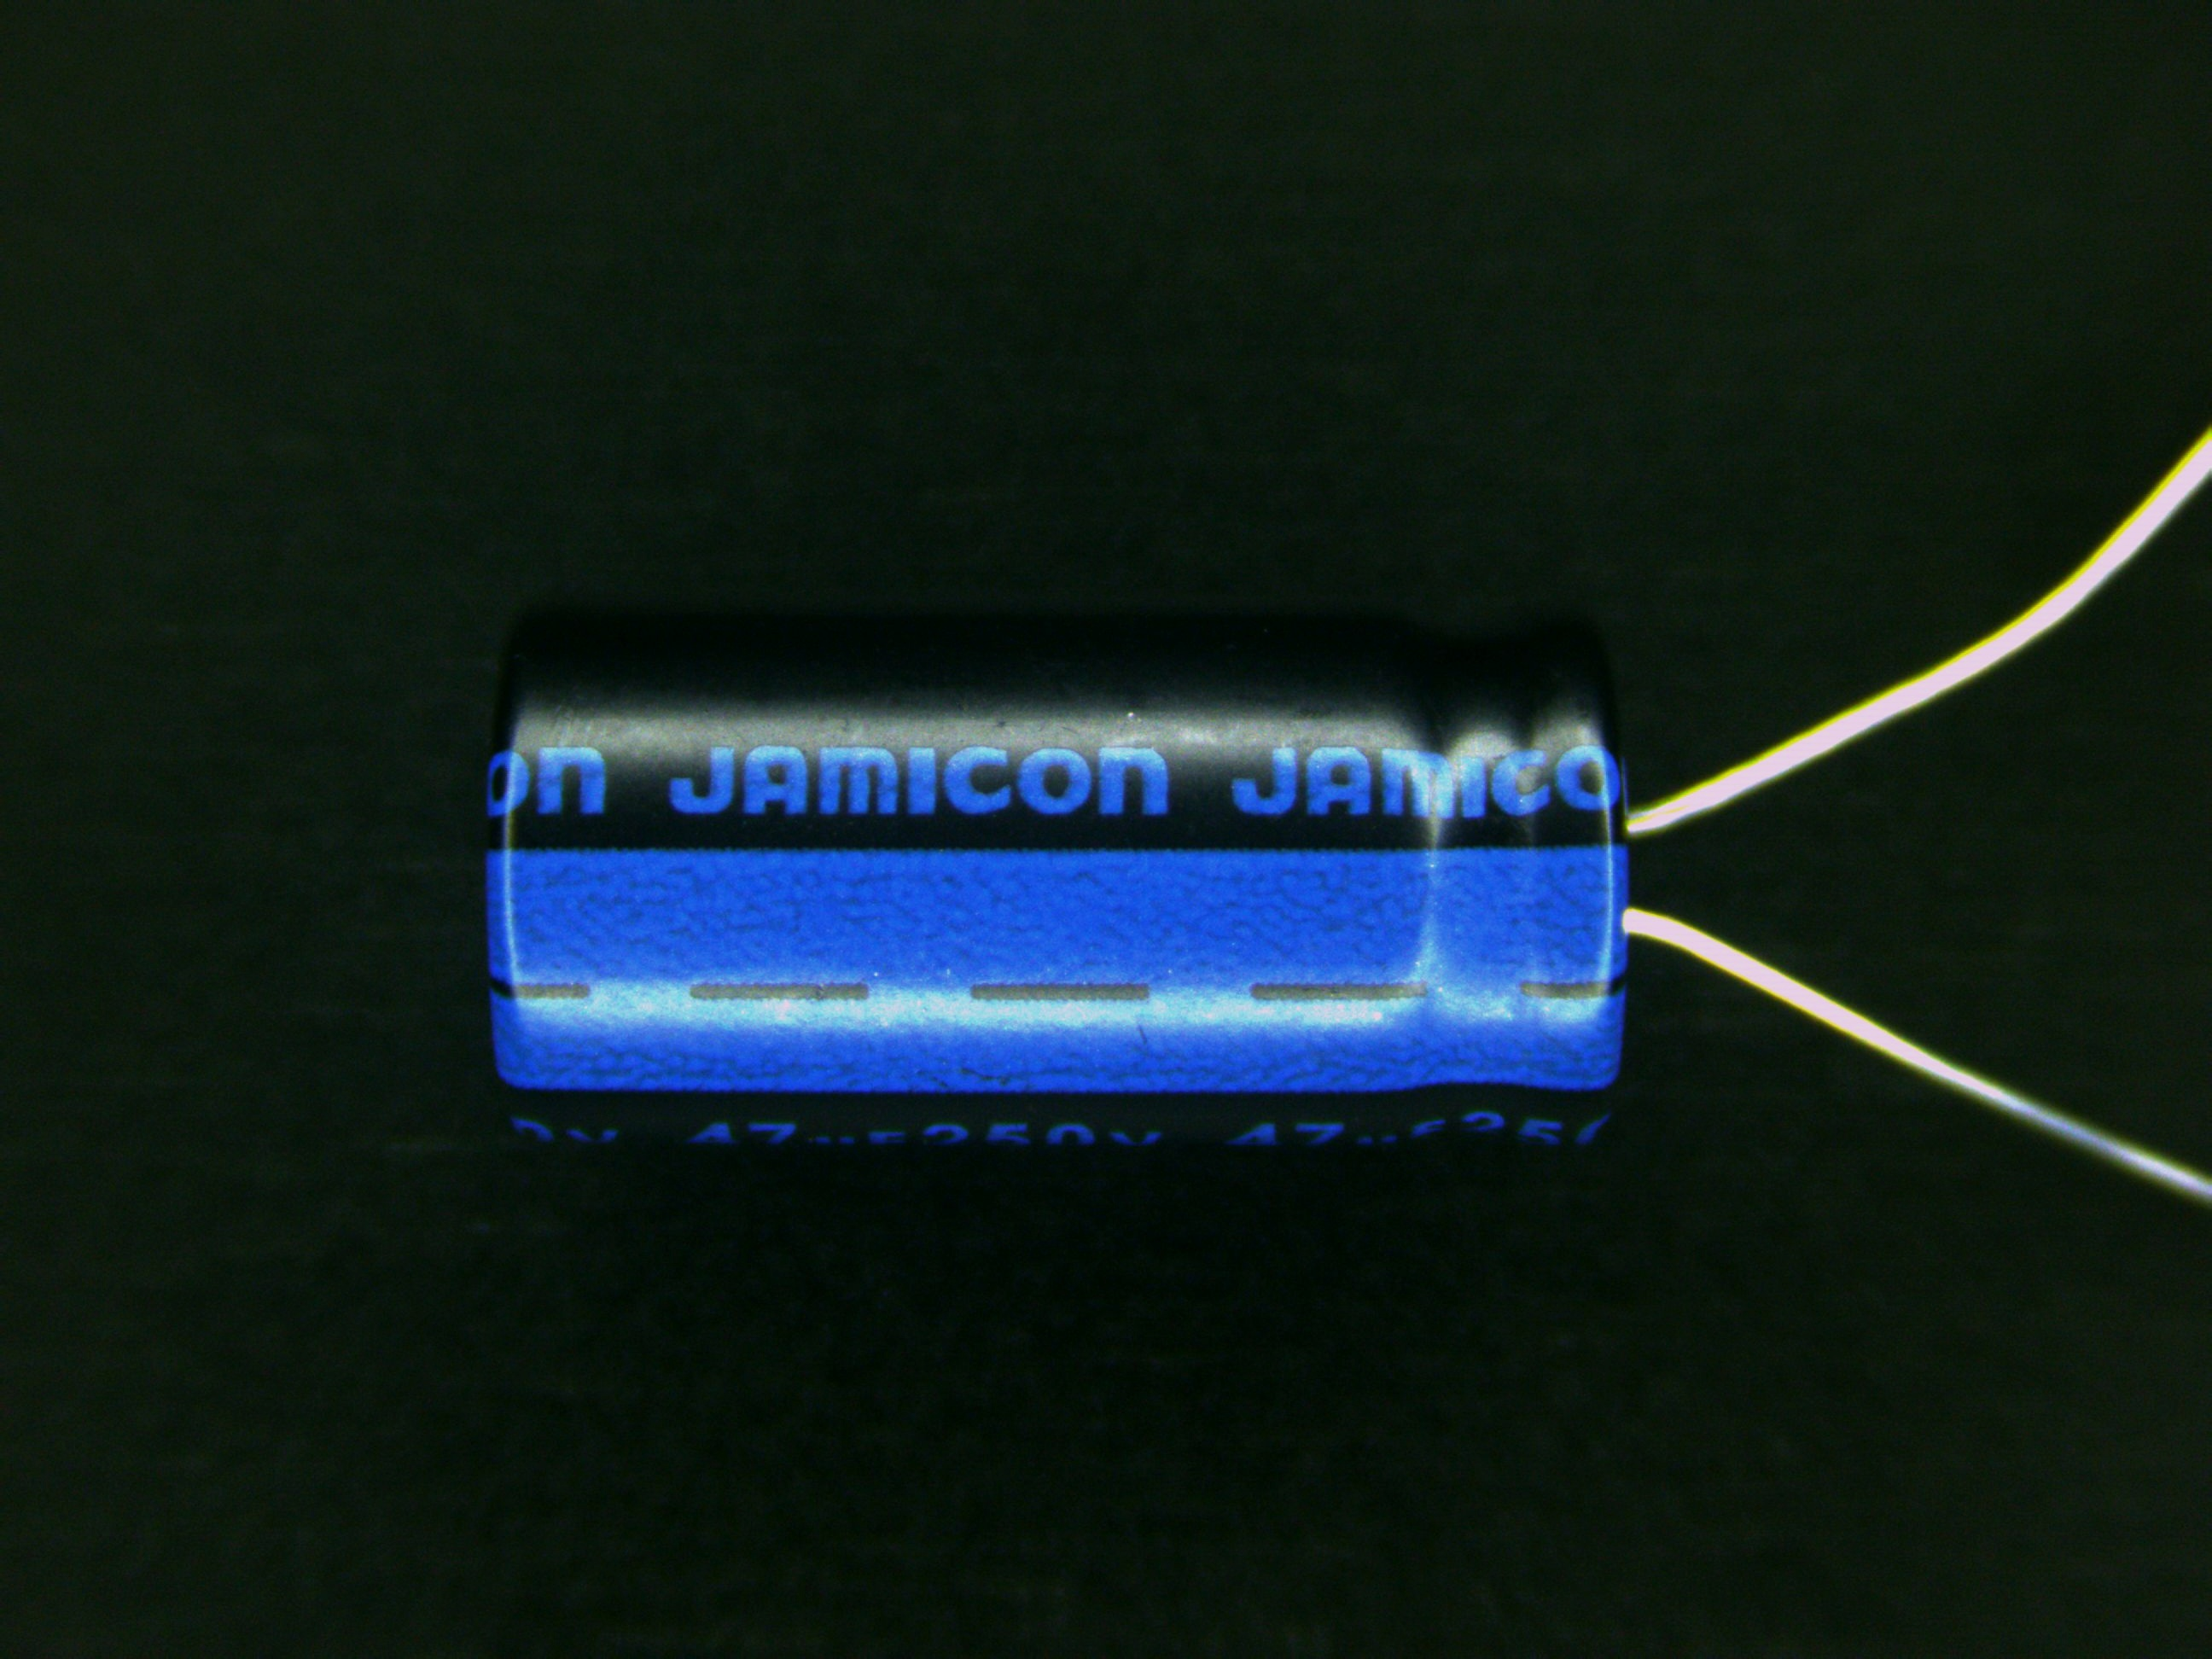c2: (479, 615, 1839, 1162)
